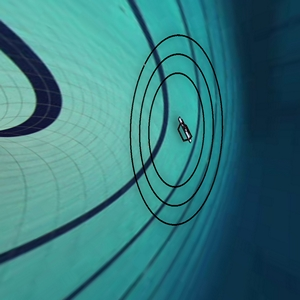circle: (125, 30, 232, 231)
submarine: (171, 110, 197, 150)
